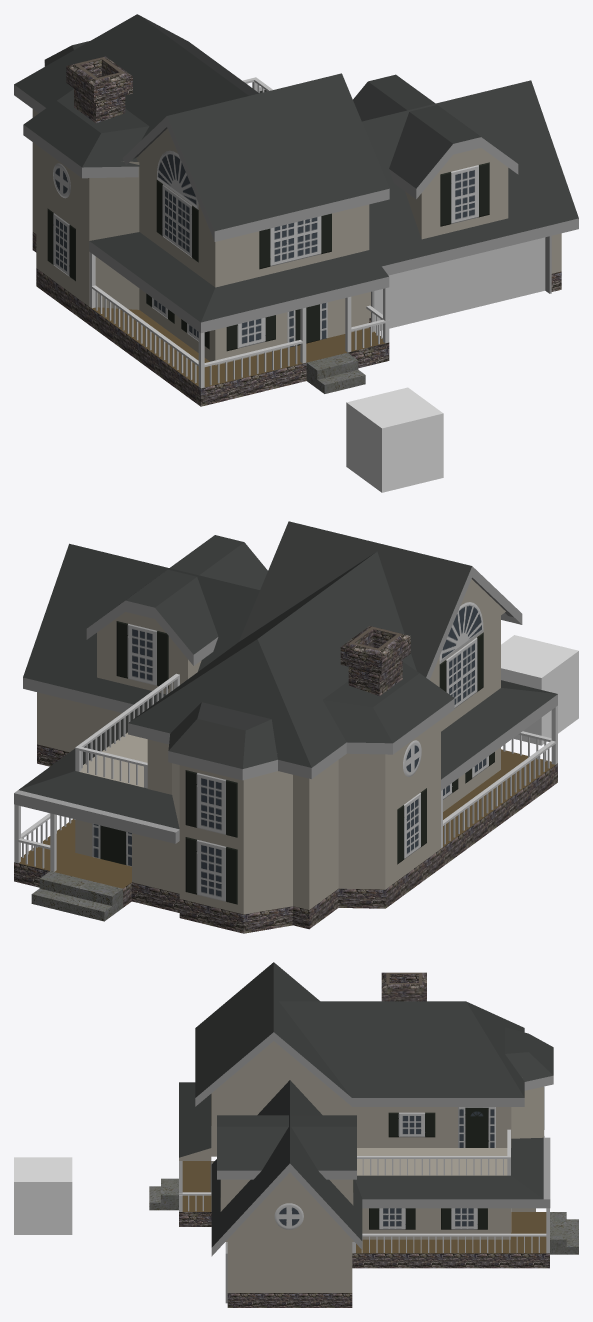
Rendered from house_model_2.glb.
3 views of the same model, one above another, from view 1: azimuth 30°, elevation 25°; view 2: azimuth 150°, elevation 25°; view 3: azimuth 270°, elevation 25° (orthographic). The views are drawn at different scales.
Parts seen in each view (by area): view 1: roof, wood_1, doors_and_windows_collection, roof_edge, stone_1, Cube, woos_2, wood_3, concrete_1; view 2: roof, wood_1, doors_and_windows_collection, stone_1, roof_edge, woos_2, wood_3, Cube, concrete_1; view 3: roof, wood_1, roof_edge, stone_1, doors_and_windows_collection, wood_3, Cube, woos_2, concrete_1.
Part boxes in pixels (<box>): roof: <box>14,14,578,322</box>; wood_1: <box>32,109,561,365</box>; doors_and_windows_collection: <box>47,150,545,351</box>; roof_edge: <box>14,63,578,333</box>; stone_1: <box>32,56,561,406</box>; Cube: <box>346,387,443,492</box>; woos_2: <box>89,77,389,388</box>; wood_3: <box>90,307,384,387</box>; concrete_1: <box>306,352,365,393</box>; roof: <box>19,521,557,829</box>; wood_1: <box>37,579,505,914</box>; doors_and_windows_collection: <box>92,602,494,904</box>; stone_1: <box>14,626,557,933</box>; roof_edge: <box>14,566,557,843</box>; woos_2: <box>14,673,557,871</box>; wood_3: <box>19,749,555,888</box>; Cube: <box>501,635,578,745</box>; concrete_1: <box>31,871,122,921</box>; roof: <box>179,962,553,1247</box>; wood_1: <box>179,1041,543,1292</box>; roof_edge: <box>195,1032,553,1303</box>; stone_1: <box>179,972,549,1307</box>; doors_and_windows_collection: <box>210,1087,544,1232</box>; wood_3: <box>182,1161,546,1253</box>; Cube: <box>14,1157,72,1234</box>; woos_2: <box>179,1129,549,1253</box>; concrete_1: <box>149,1178,578,1254</box>.
Size of the model in its own units: 13.26 by 8.53 by 19.37.
9 materials, 3 textured.
